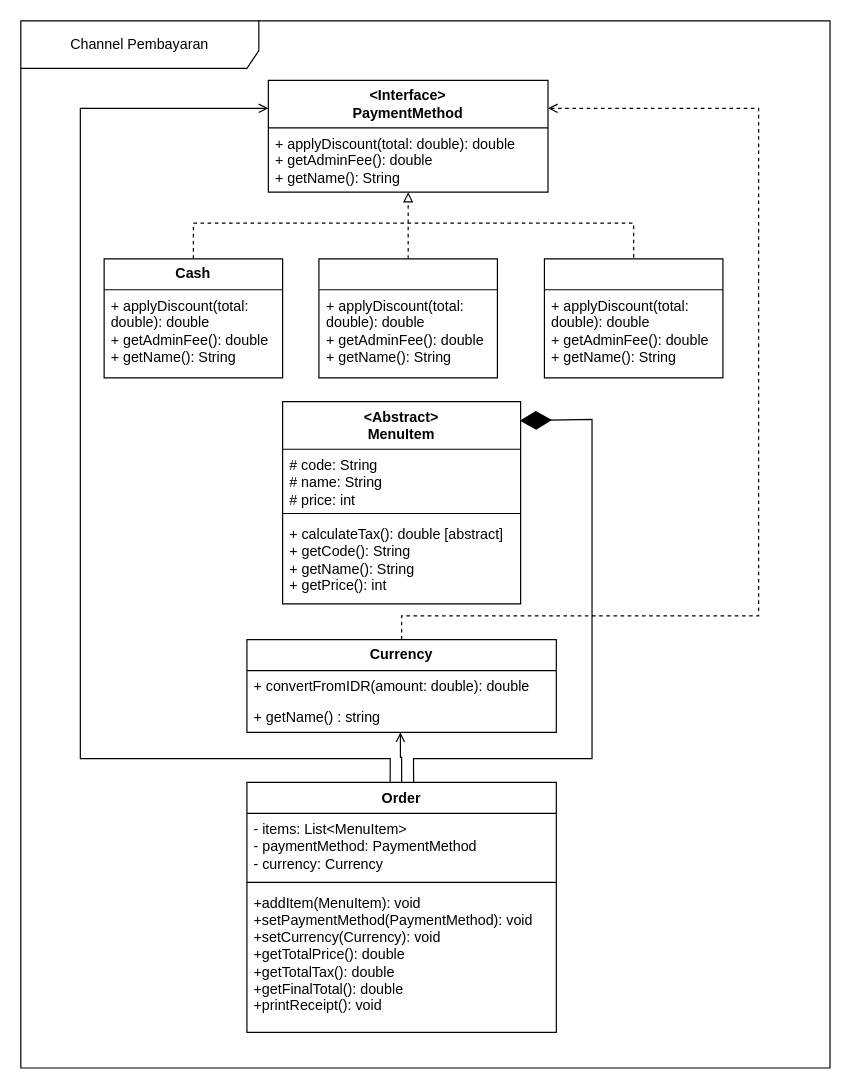
This 851x1089 diagram has some shape labels left out. The box of each missing label's shape, as (x1, y1, x2, y2) in pixels:
EMoney: (543, 258, 723, 378)
Qris: (318, 258, 497, 378)
